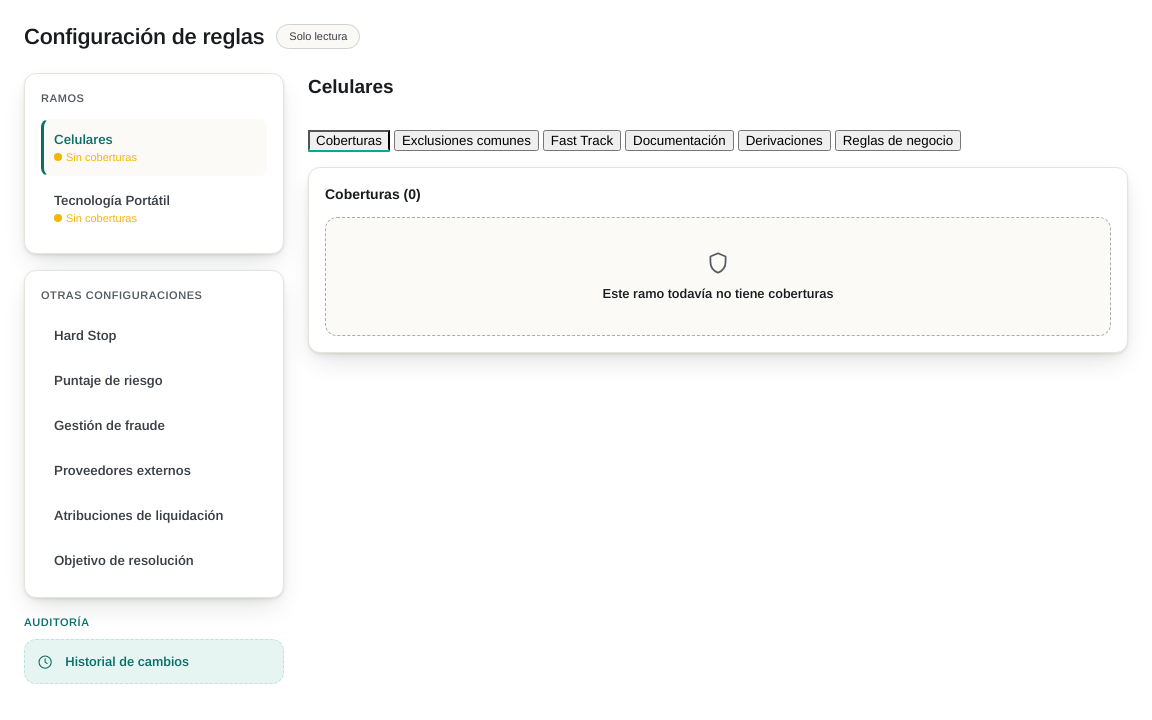
RulesComponent › for the analyst › shows Hard Stop with nothing to change or save
Step 1. Click the button with class "general" showing "Hard Stop" → (154, 336), box [41,315,267,356]
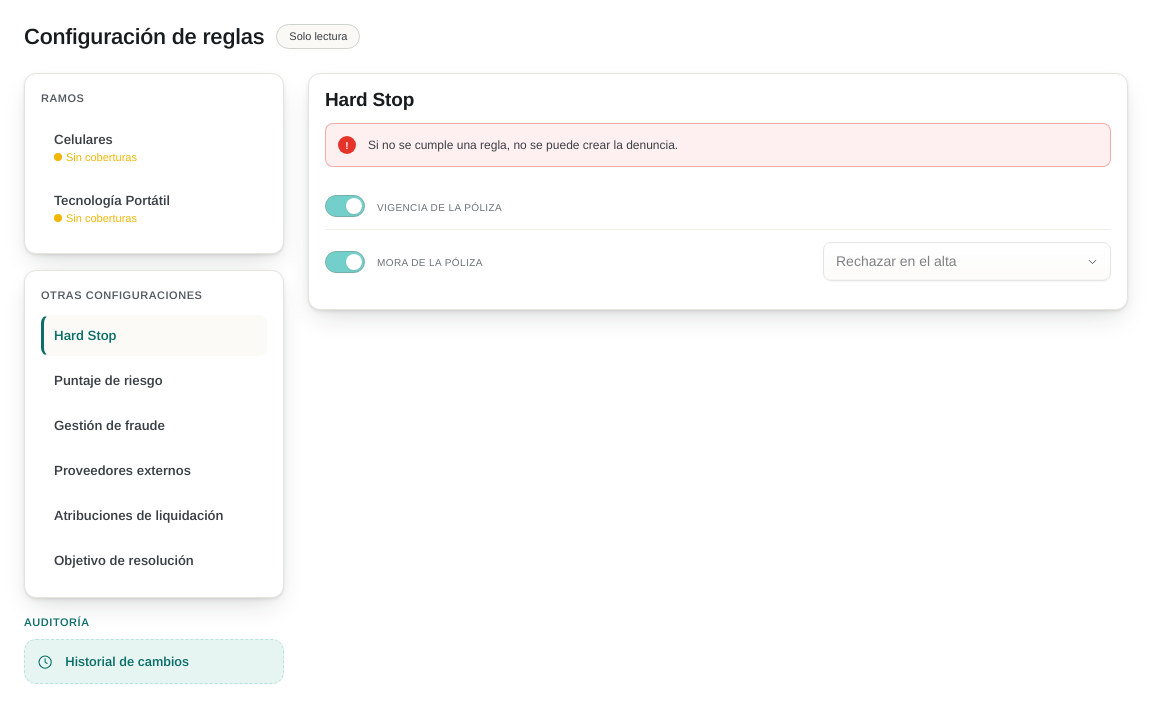
Now the number of switches is 2, box [325,195,365,217]; [325,251,365,273]
